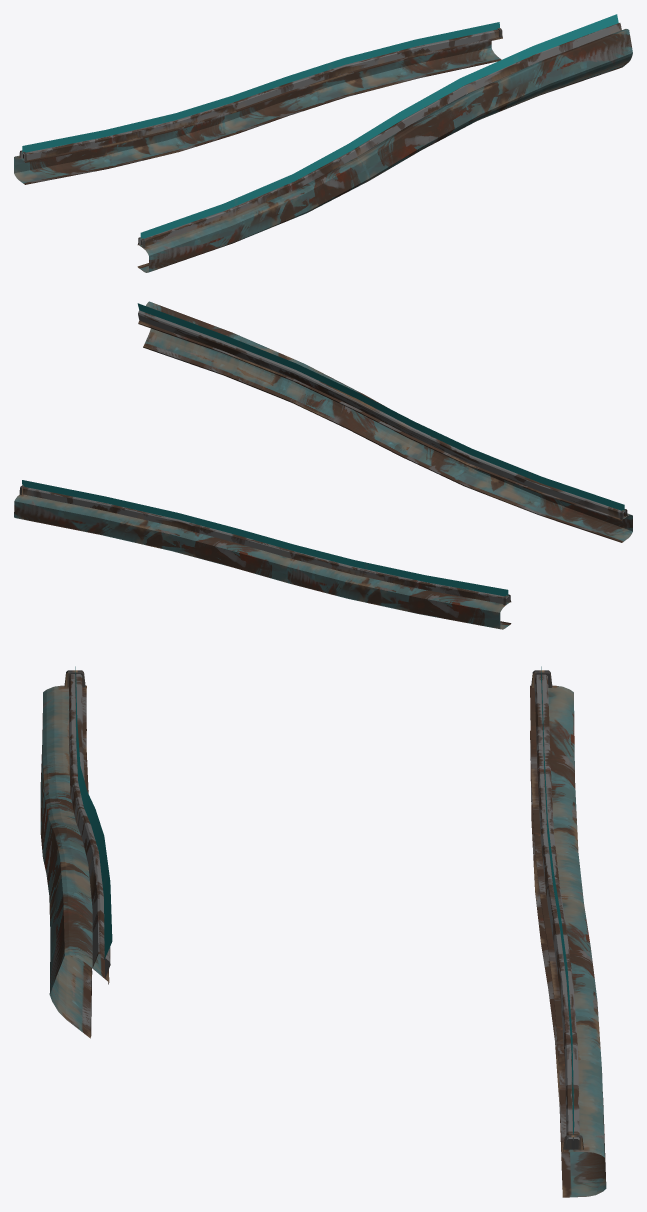
Rendered from Mur_Transition_Gauche.fbx.
3 views of the same model, one above another, from view 1: azimuth 30°, elevation 25°; view 2: azimuth 150°, elevation 25°; view 3: azimuth 270°, elevation 25° (orthographic). The views are drawn at different scales.
Visible parts, largest first — view 1: polySurface299; view 2: polySurface299; view 3: polySurface299.
Boxes of the visible parts, x1,y1,x2,y2 form: polySurface299: [14, 14, 632, 272]; polySurface299: [14, 301, 632, 629]; polySurface299: [40, 666, 606, 1197].
Size of the model in its own units: 31.22 by 8.34 by 15.98.
